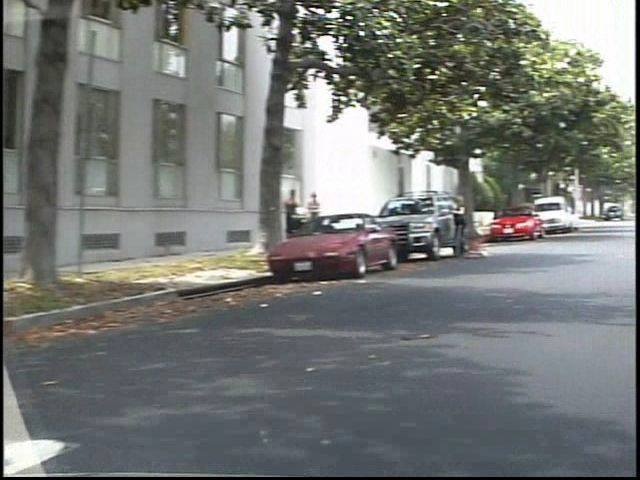person: (459, 192, 489, 265), (296, 183, 323, 251), (318, 188, 341, 247)
